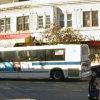Bus: (2, 45, 92, 83)
